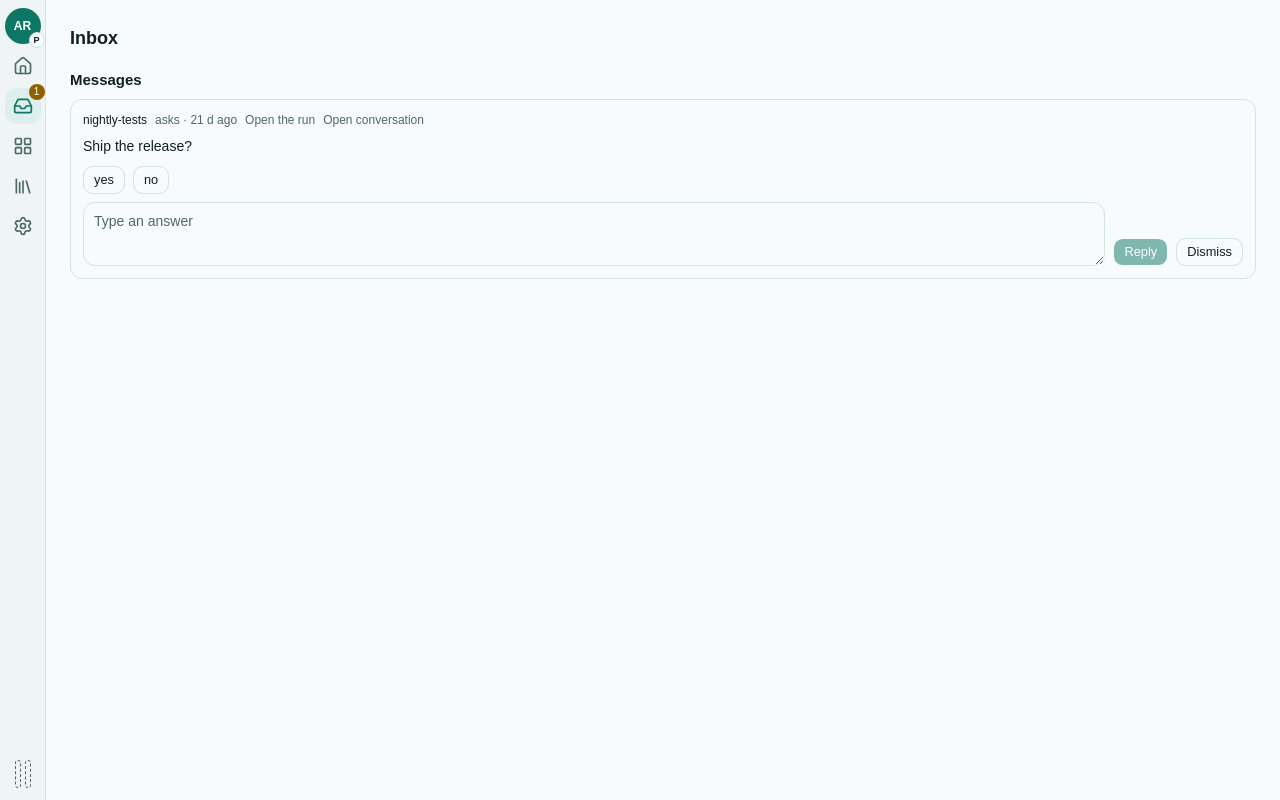
it: the Inbox's messages › answers a question with one of its choices
Click the button "yes": (104, 180) [83,166,125,194]
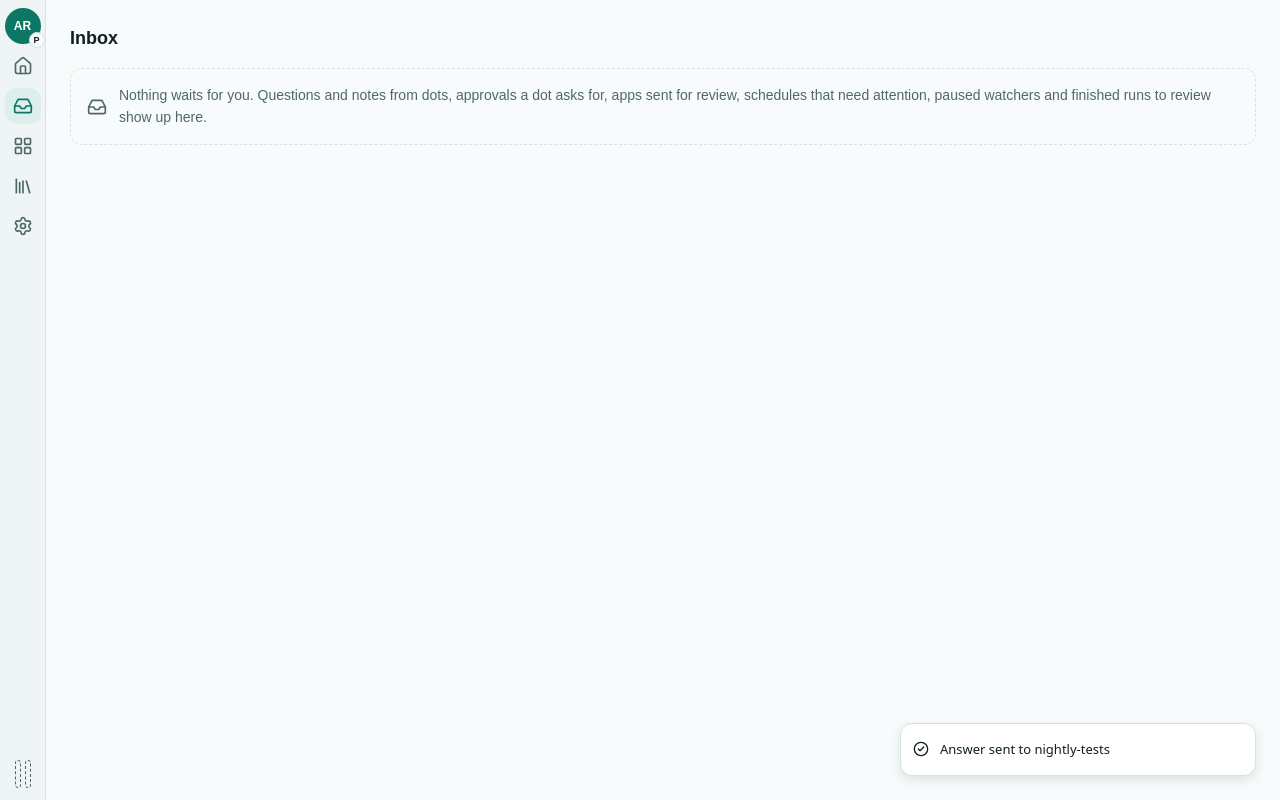
Expected: the text "Nothing waits for you" is shown, [119,87,1211,125]
